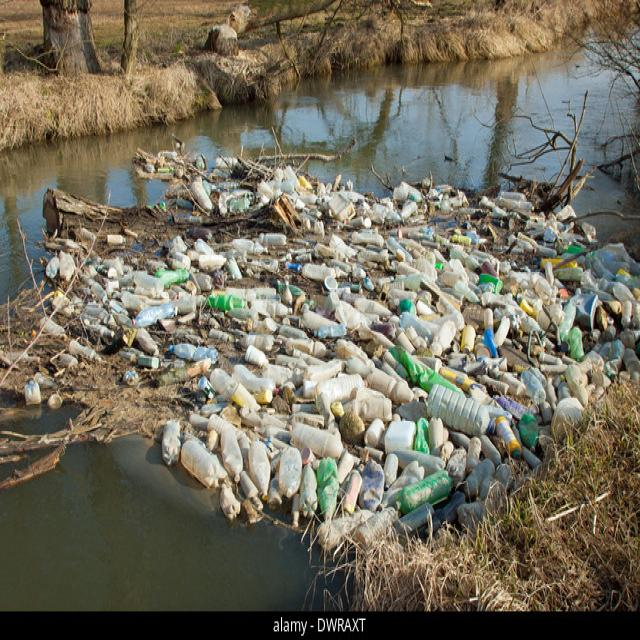plastic: (153, 218, 610, 442), (238, 458, 447, 531)
